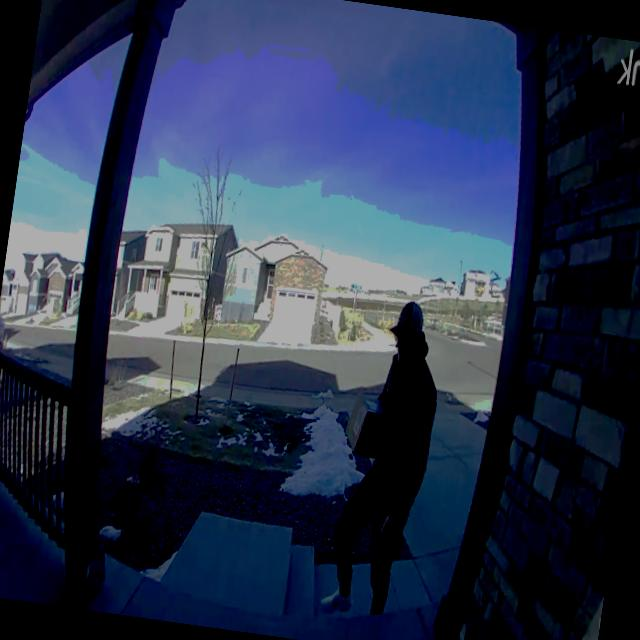Box: (343, 392, 386, 458)
